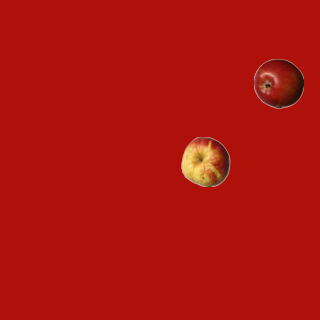Apple Braeburn: (253, 58, 303, 108)
Apple Red Yellow 1: (180, 136, 230, 186)
